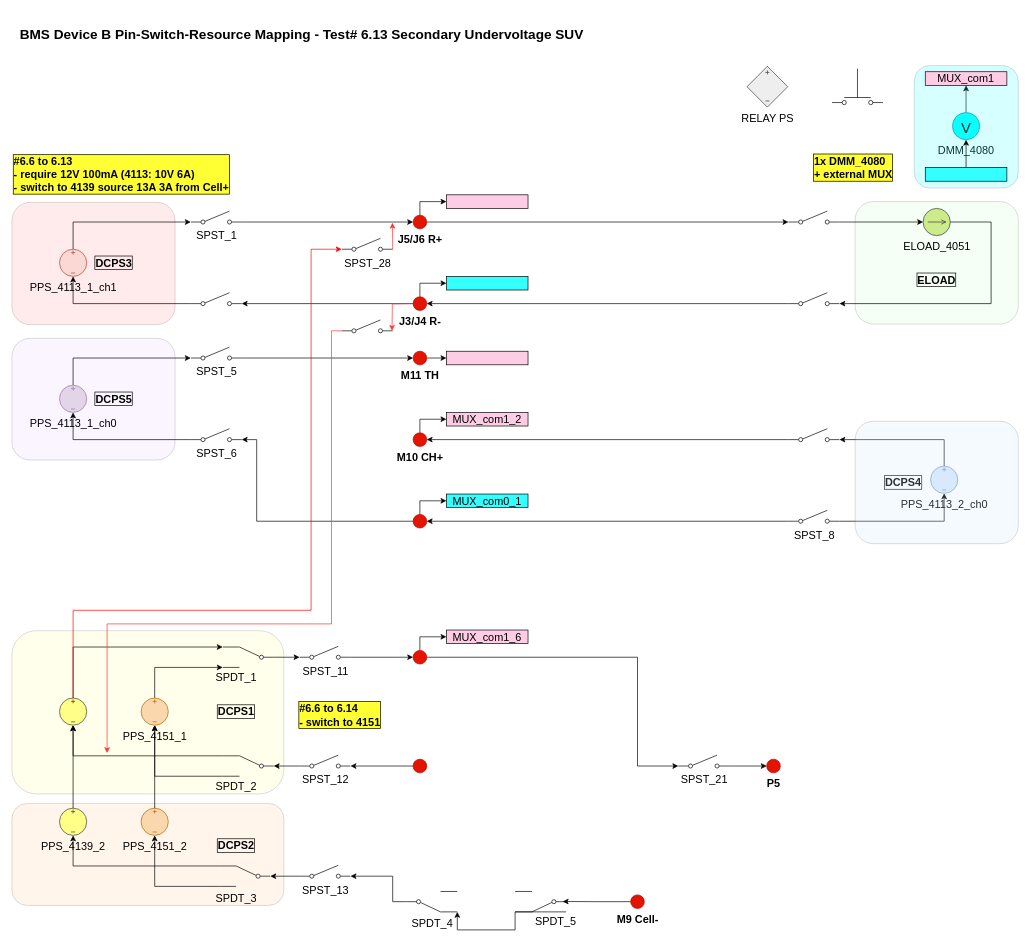
Image size: 1030x947. Some labels were removed from this diagram. The box of each missing label's shape, as (x1, y1, x2, y2) in pixels:
M12 MID: (412, 759, 427, 773)
M15 CH-: (412, 514, 427, 528)
M8 Cell+: (412, 650, 427, 664)
MUX_com0: (925, 167, 1007, 181)
MUX_com0_0: (446, 276, 528, 290)
MUX_com1_0: (446, 194, 528, 208)
MUX_com1_1: (446, 351, 528, 365)
PPS_4139_1: (59, 697, 87, 725)
RELAY_2567: (831, 68, 883, 105)
SPST_2: (190, 292, 242, 306)
SPST_29: (341, 319, 393, 334)
SPST_3: (788, 210, 839, 225)
SPST_4: (788, 292, 839, 306)
SPST_7: (788, 428, 839, 442)
